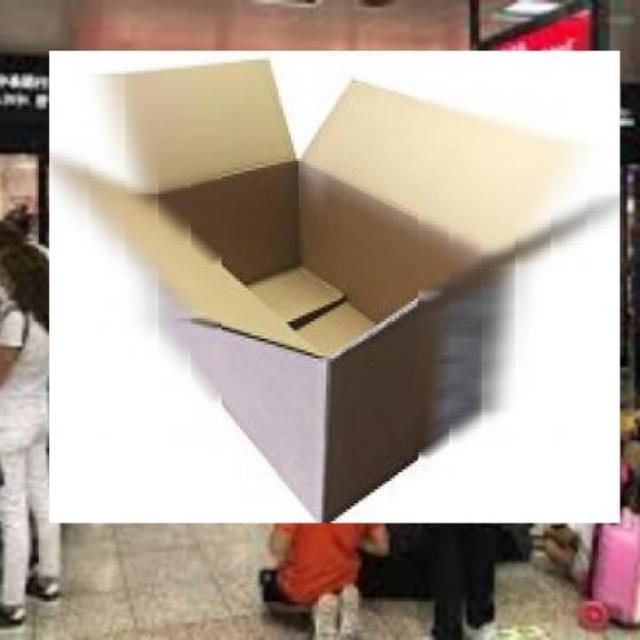box: (38, 44, 630, 530)
